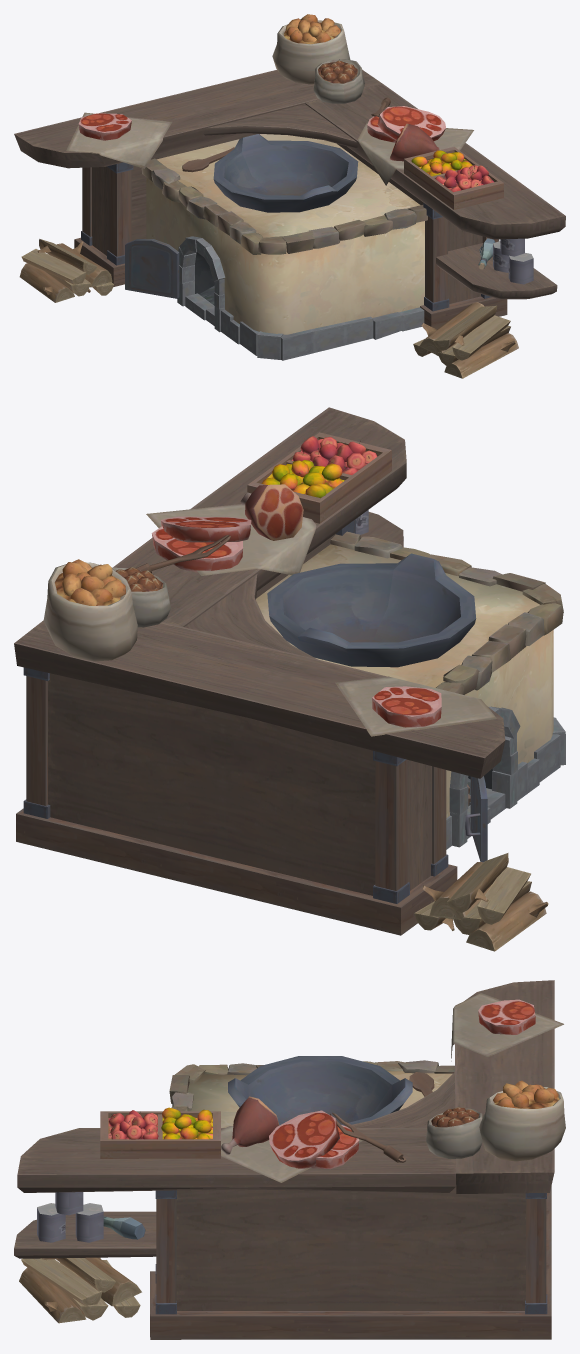
Rendered from Homeworld_Exterior_Md_Thing_Prop_Stoves_01_Lod0.fbx.
The picture shows the model from 3 angles, top to bottom: view 1: azimuth 30°, elevation 25°; view 2: azimuth 150°, elevation 25°; view 3: azimuth 270°, elevation 25°; orthographic projection. The views are drawn at different scales.
Parts seen in each view (by area): view 1: Homeworld_Exterior_Md_Thing_Prop_Stoves_01_Lod0; view 2: Homeworld_Exterior_Md_Thing_Prop_Stoves_01_Lod0; view 3: Homeworld_Exterior_Md_Thing_Prop_Stoves_01_Lod0.
Part boxes in pixels (left/top/right/bottom): Homeworld_Exterior_Md_Thing_Prop_Stoves_01_Lod0: left=14, top=14, right=565, bottom=378; Homeworld_Exterior_Md_Thing_Prop_Stoves_01_Lod0: left=14, top=407, right=565, bottom=951; Homeworld_Exterior_Md_Thing_Prop_Stoves_01_Lod0: left=14, top=980, right=565, bottom=1339.
Bounding box in the file's own units: 3.49 × 1.81 × 3.89.
